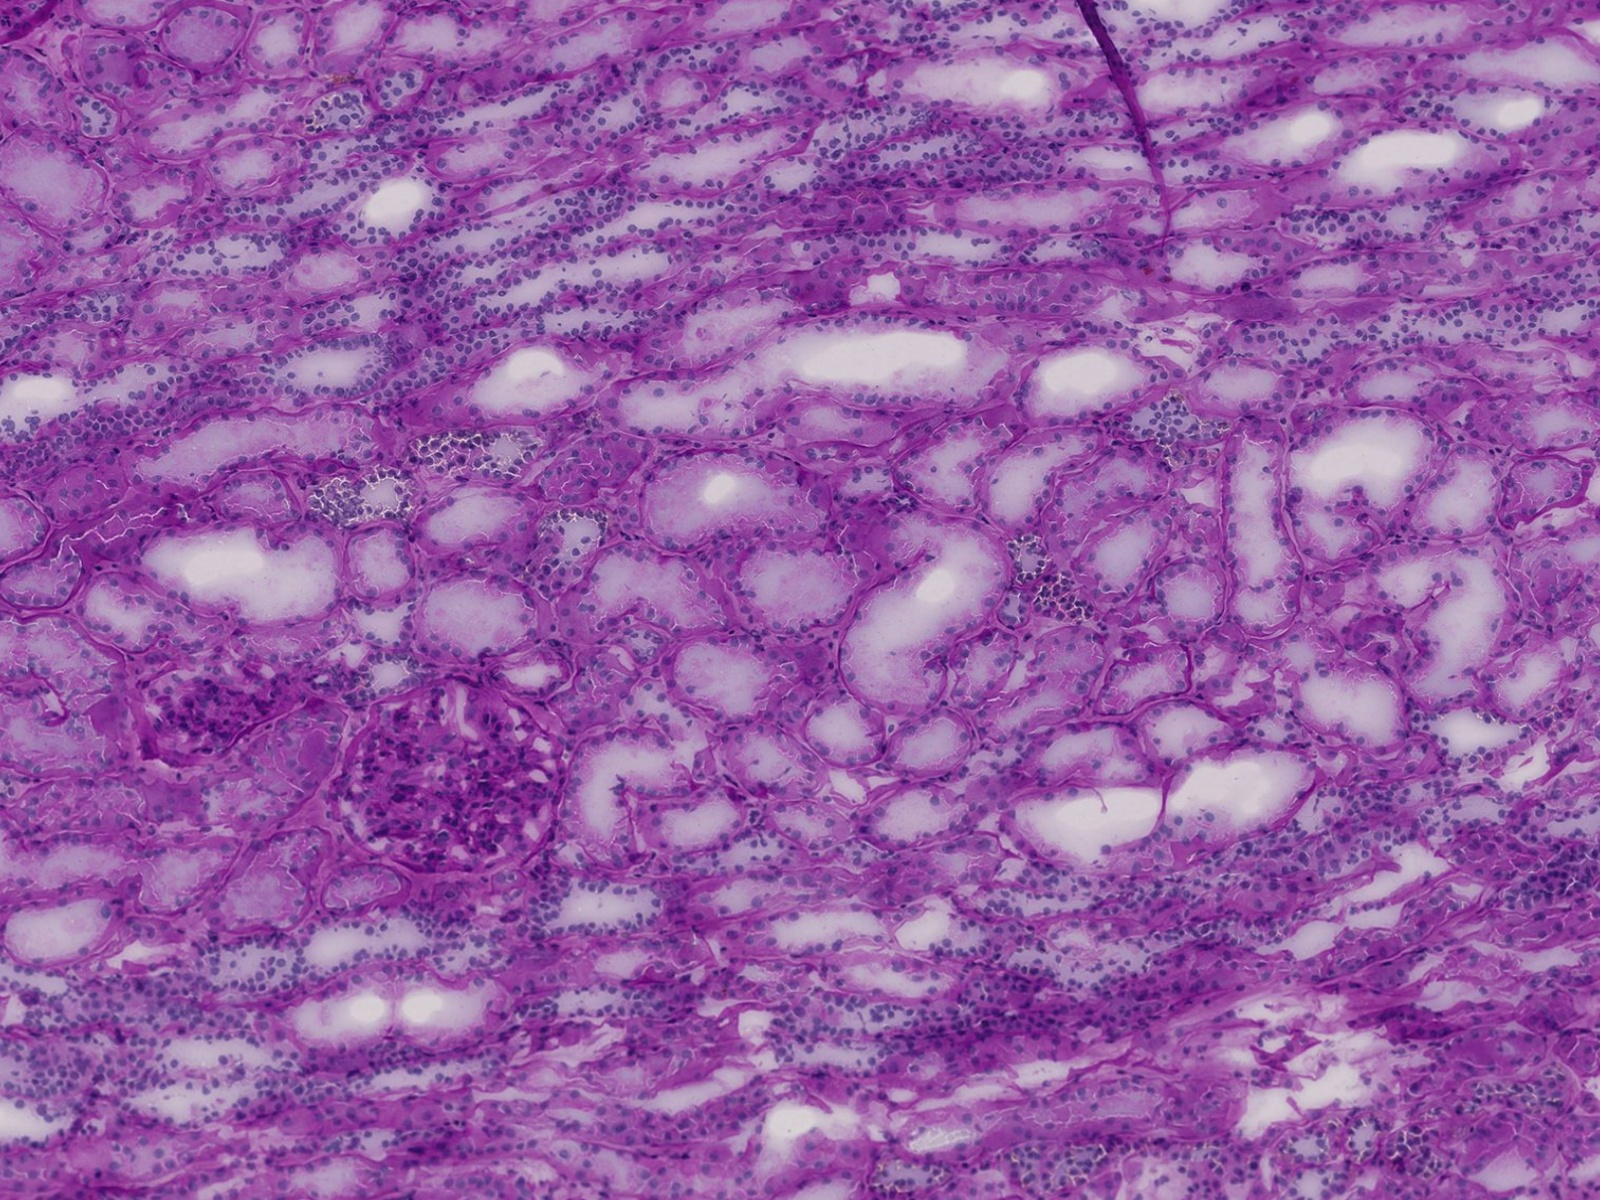Glomeruli: (330, 671, 577, 887), (130, 652, 289, 764)
